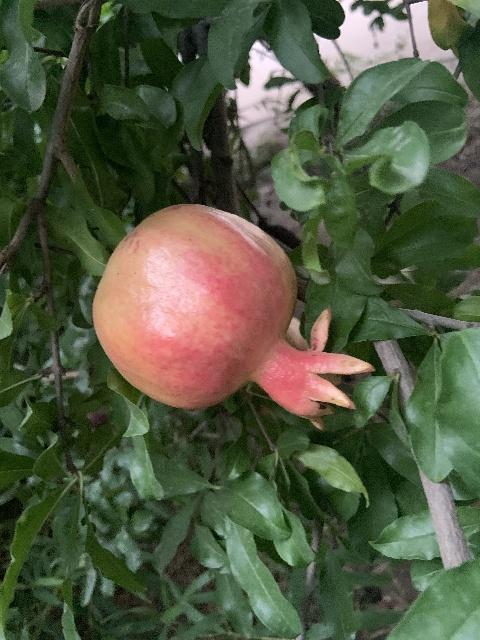ripe: (91, 202, 371, 425)
